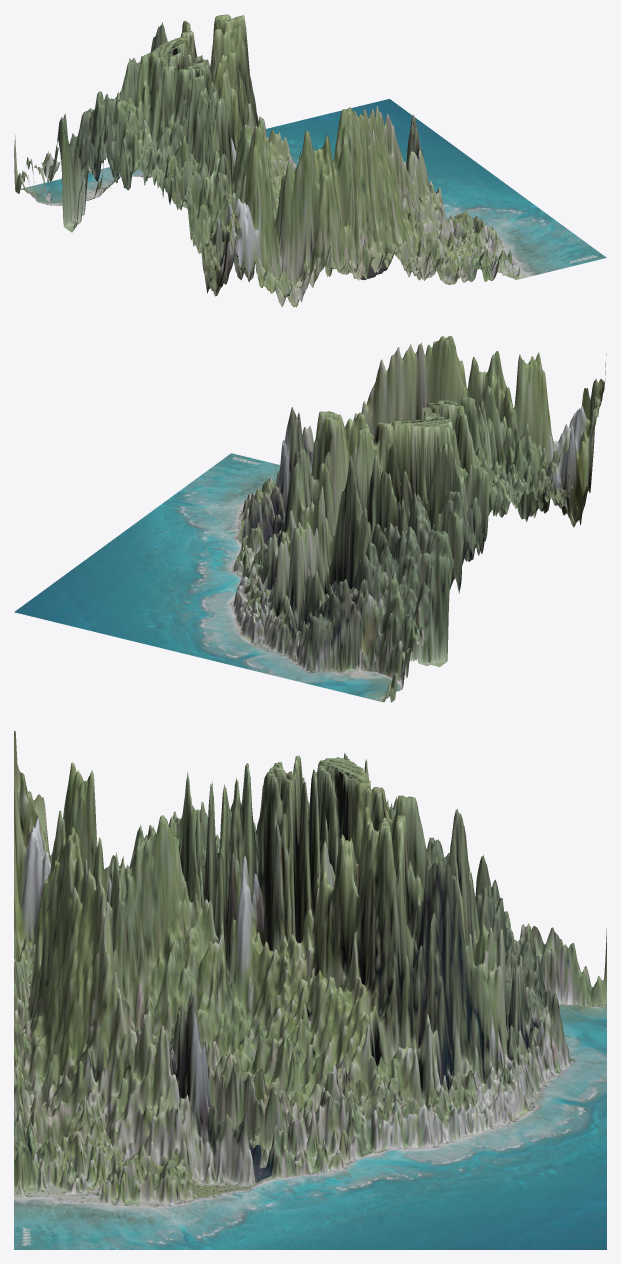
Rendered from dsm_0867b3287c_mesh.glb.
3 views of the same model, one above another, from view 1: azimuth 30°, elevation 25°; view 2: azimuth 150°, elevation 25°; view 3: azimuth 270°, elevation 25° (orthographic). The views are drawn at different scales.
Visible parts, largest first — view 1: geometry_0; view 2: geometry_0; view 3: geometry_0.
Boxes of the visible parts, x1,y1,x2,y2 form: geometry_0: [14, 14, 606, 307]; geometry_0: [14, 336, 606, 702]; geometry_0: [14, 731, 606, 1249].
Size of the model in its own units: 2 by 1 by 2.
